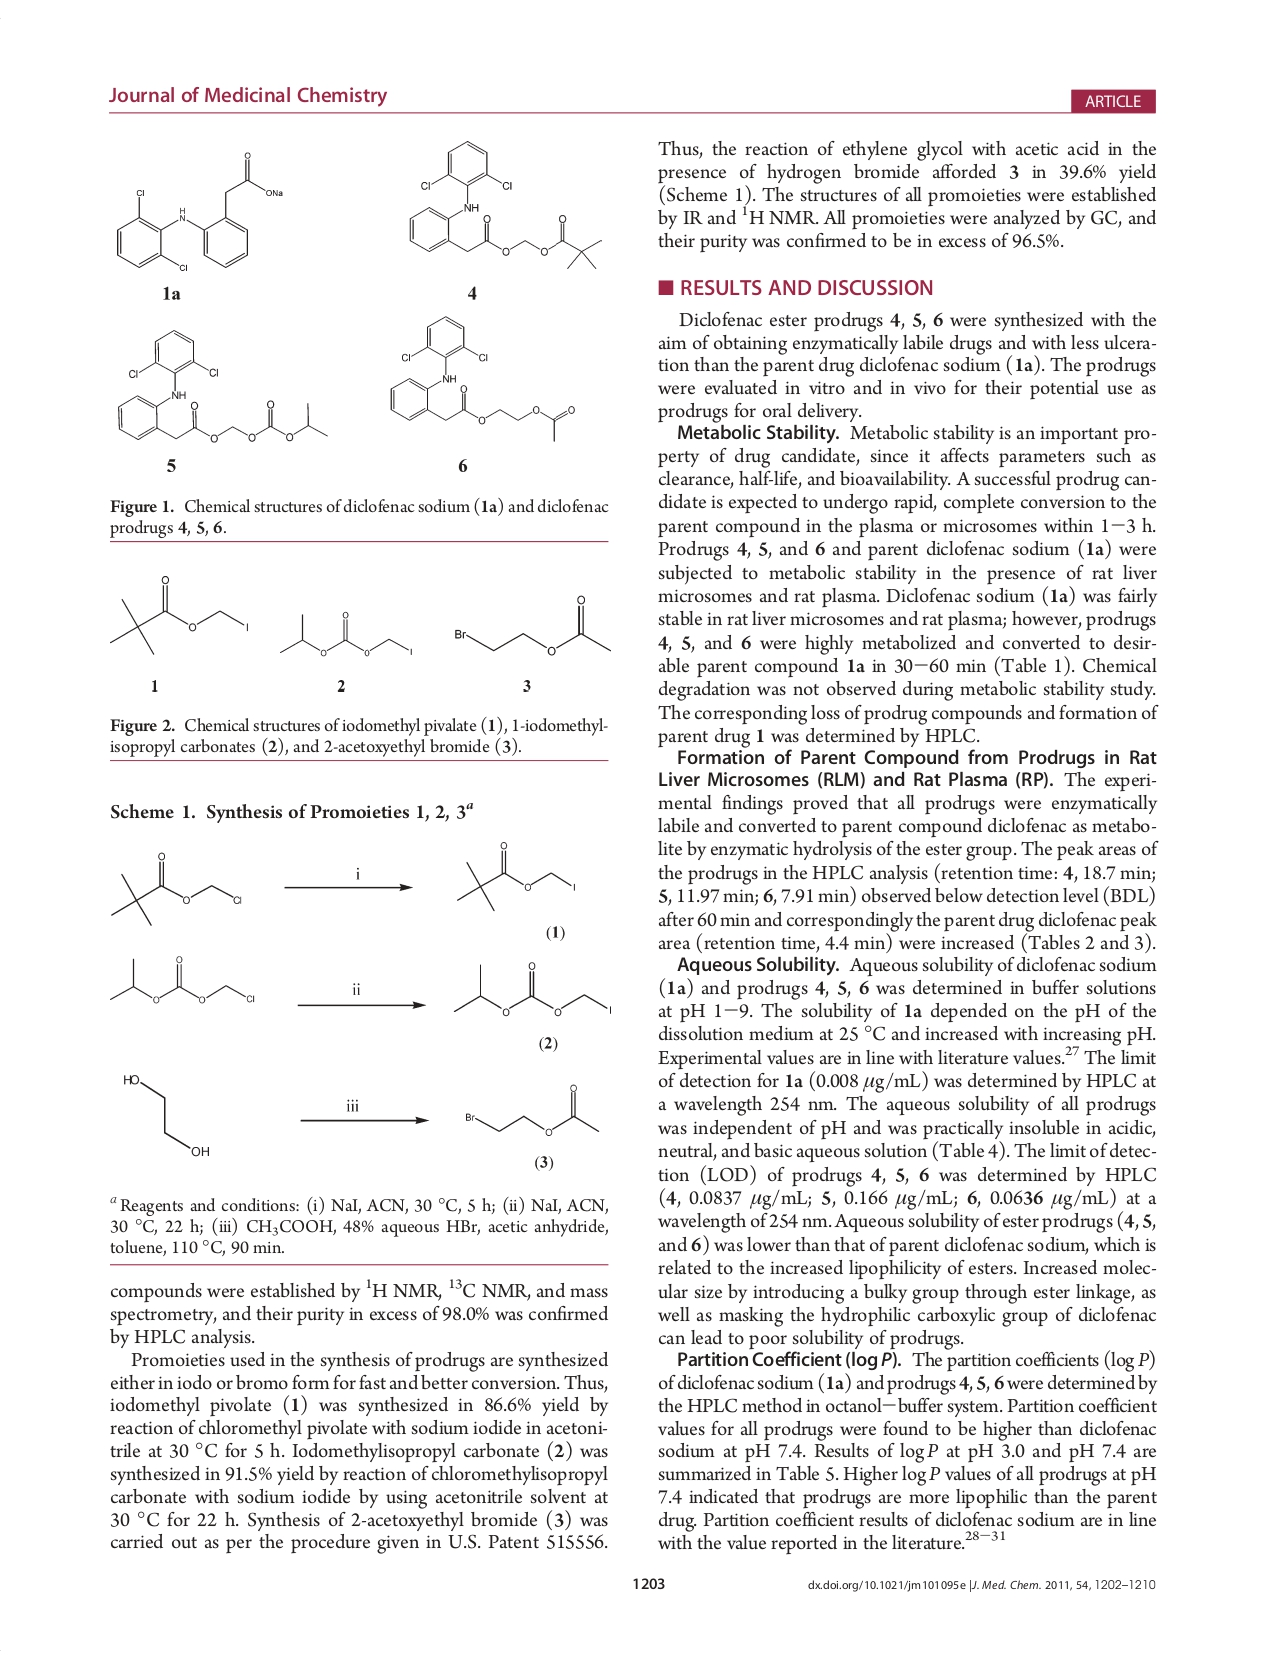exist_molecular: (406, 136, 608, 278), (110, 324, 330, 452), (386, 310, 584, 442), (114, 150, 289, 277), (449, 590, 610, 669), (106, 571, 253, 656), (104, 844, 245, 926), (449, 956, 617, 1024), (114, 1060, 211, 1168), (451, 836, 580, 915), (104, 950, 258, 1011), (461, 1079, 605, 1141), (277, 610, 416, 666)
